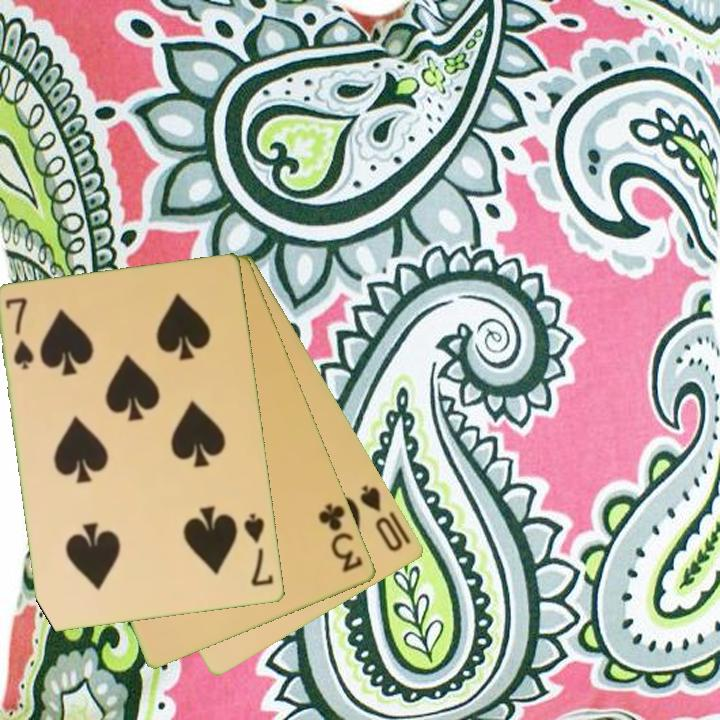10s: (357, 481, 407, 555)
3c: (315, 500, 367, 576)
7s: (241, 510, 277, 590), (2, 294, 37, 373)
